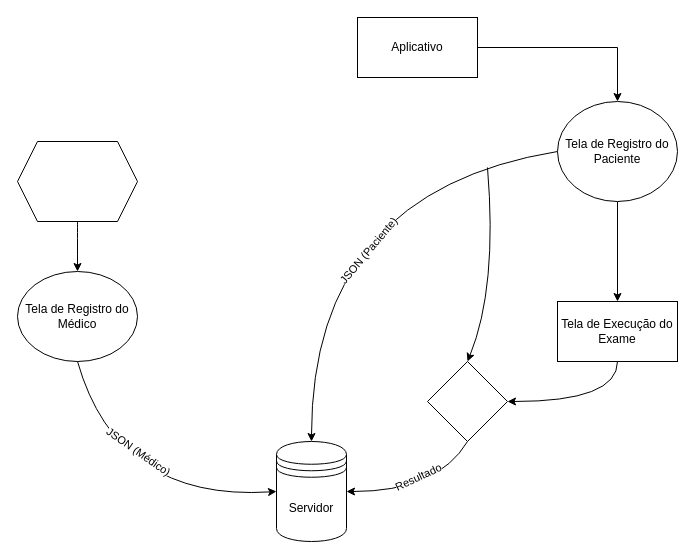
Some shapes in this 695 by 559 pixel diagram are drawn without their labels. The centre of each missing label's shape, as x and y in pixels:
Central: point (77, 181)
Execução Exame: point (467, 401)
